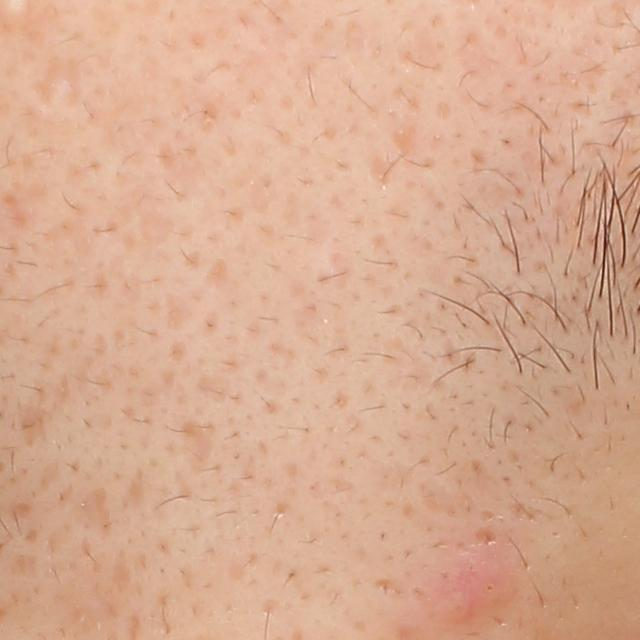atrophic_scar: (29, 48, 93, 113), (176, 415, 219, 476), (18, 375, 50, 454), (75, 487, 111, 537), (120, 466, 154, 516), (391, 122, 423, 160), (108, 547, 131, 597)
papule: (428, 548, 526, 635)
